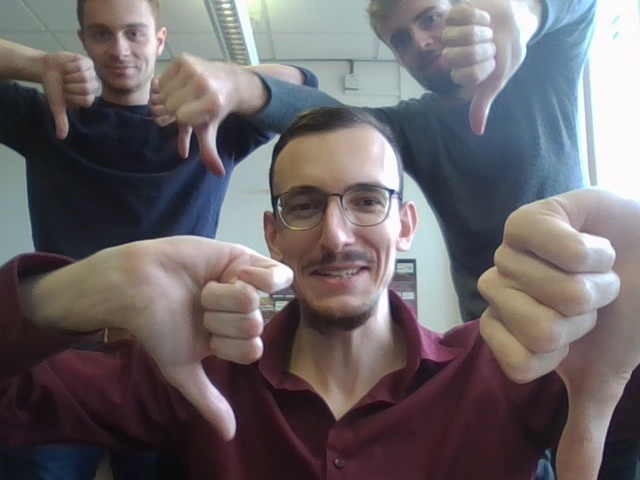thumbdown: (119, 235, 290, 439), (442, 1, 525, 136), (161, 48, 237, 179), (45, 43, 99, 141)
